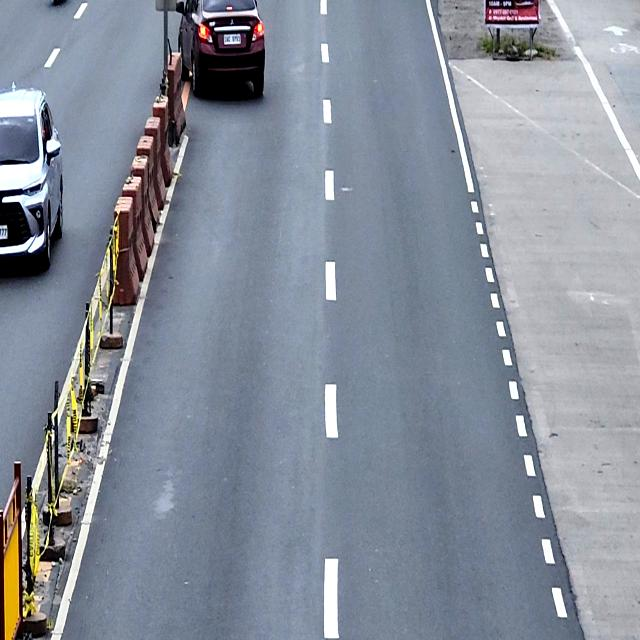Car: (0, 81, 63, 270), (176, 0, 265, 96)
License-Plate: (222, 32, 242, 46), (0, 225, 9, 240)
